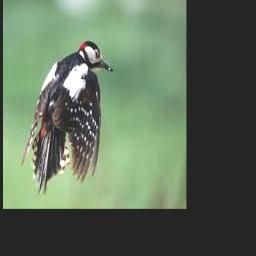Woodpecker: (22, 40, 114, 197)
